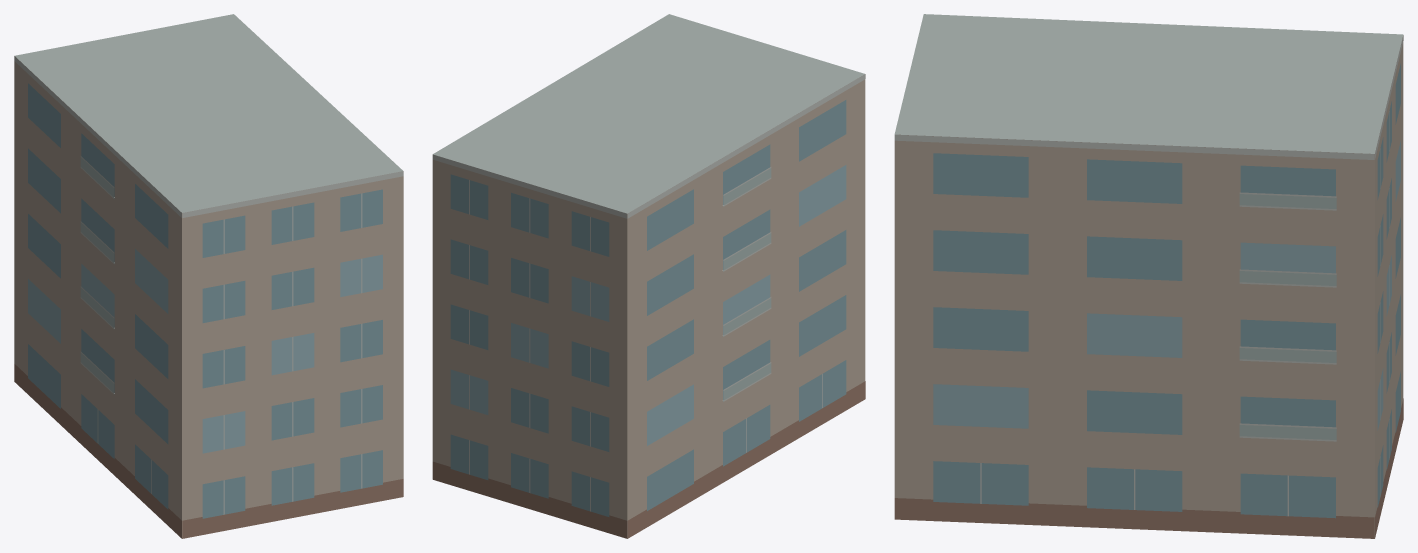
The model's file is survey-upis-32670569.glb.
3 views of the same model, side by side, from view 1: azimuth 30°, elevation 25°; view 2: azimuth 150°, elevation 25°; view 3: azimuth 270°, elevation 25° (orthographic). The views are drawn at different scales.
Visible parts, largest first — view 1: survey-upis-32670569.tmp; view 2: survey-upis-32670569.tmp; view 3: survey-upis-32670569.tmp.
Boxes of the visible parts, box(x1,y1,x2,y2) form: survey-upis-32670569.tmp: box(14, 14, 403, 538); survey-upis-32670569.tmp: box(432, 14, 865, 538); survey-upis-32670569.tmp: box(894, 14, 1403, 538).
Size of the model in its own units: 11.9 by 15.25 by 18.29.
